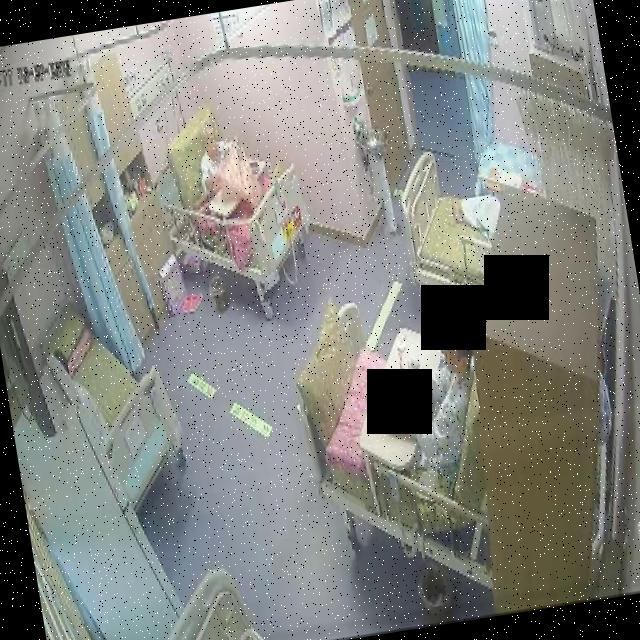bed: (290, 293, 504, 582), (44, 284, 192, 520), (152, 120, 317, 292), (391, 140, 508, 308)
patient: (365, 305, 493, 500), (191, 121, 241, 197)
sit: (306, 303, 496, 512), (192, 116, 272, 224)
